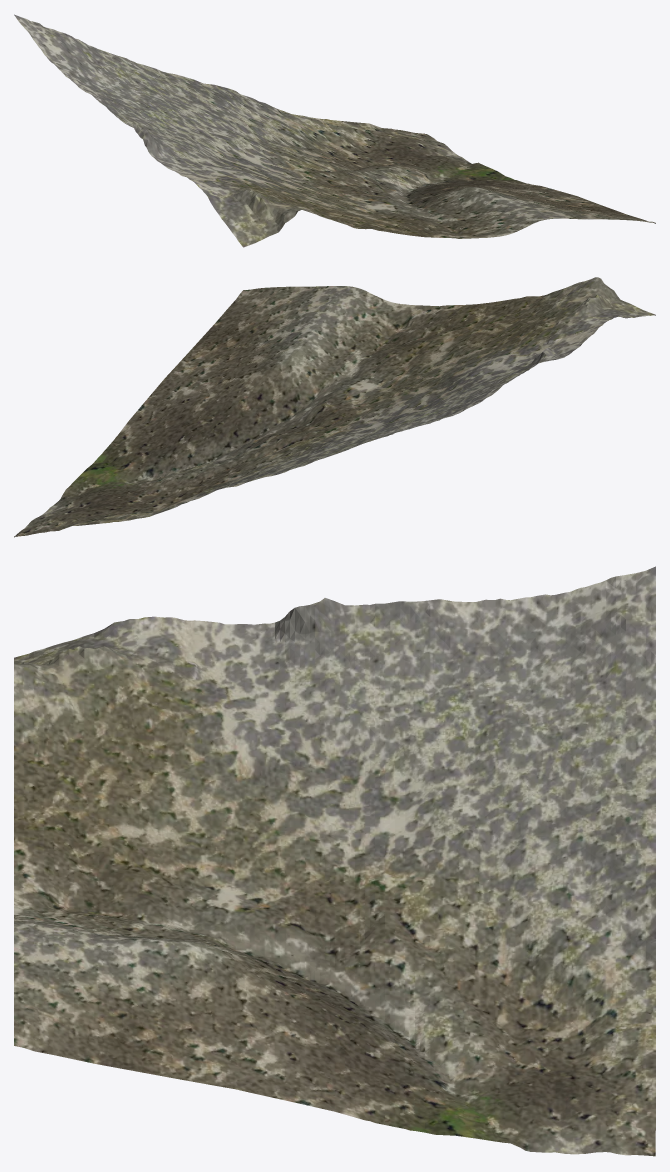
3 renders of one model, top to bottom at view 1: azimuth 30°, elevation 25°; view 2: azimuth 150°, elevation 25°; view 3: azimuth 270°, elevation 25°, orthographic. The views are drawn at different scales.
Bounding box in the file's own units: 500 × 256 × 481.
1 material, 1 textured.
